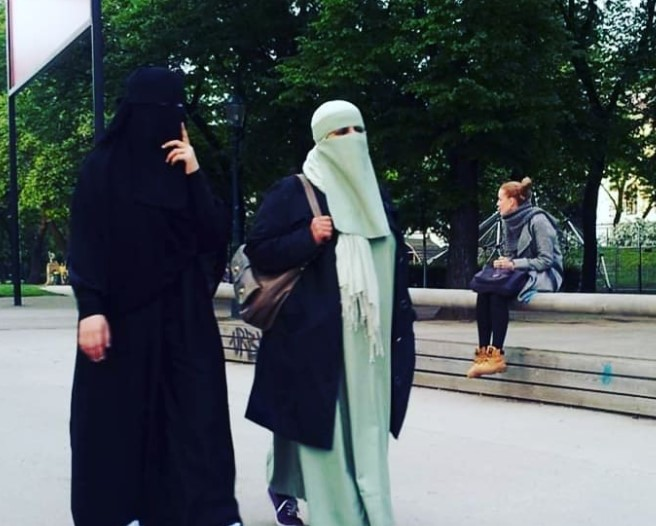face_no_mask: (495, 180, 525, 216)
